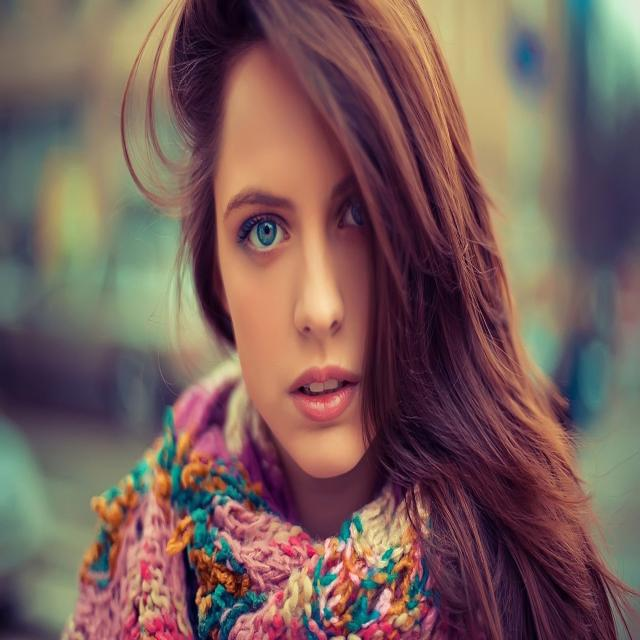human: (73, 9, 612, 640)
